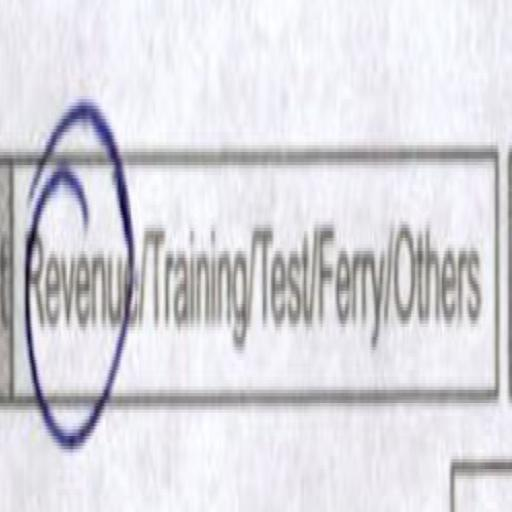check: (22, 91, 133, 470)
